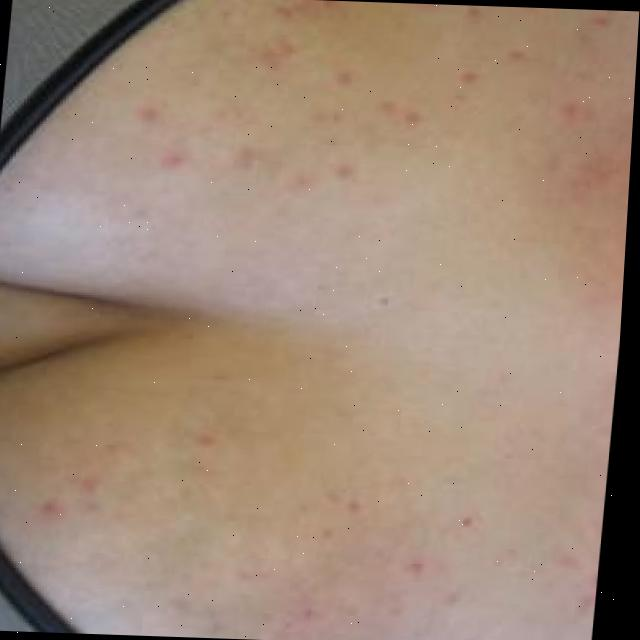Eczema: (62, 389, 614, 640), (68, 0, 612, 213)
